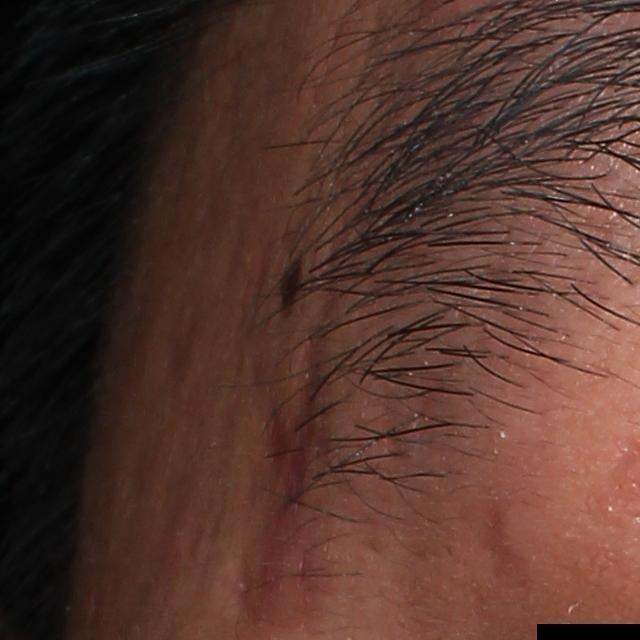atrophic_scar: (240, 343, 333, 593), (457, 492, 553, 602)
